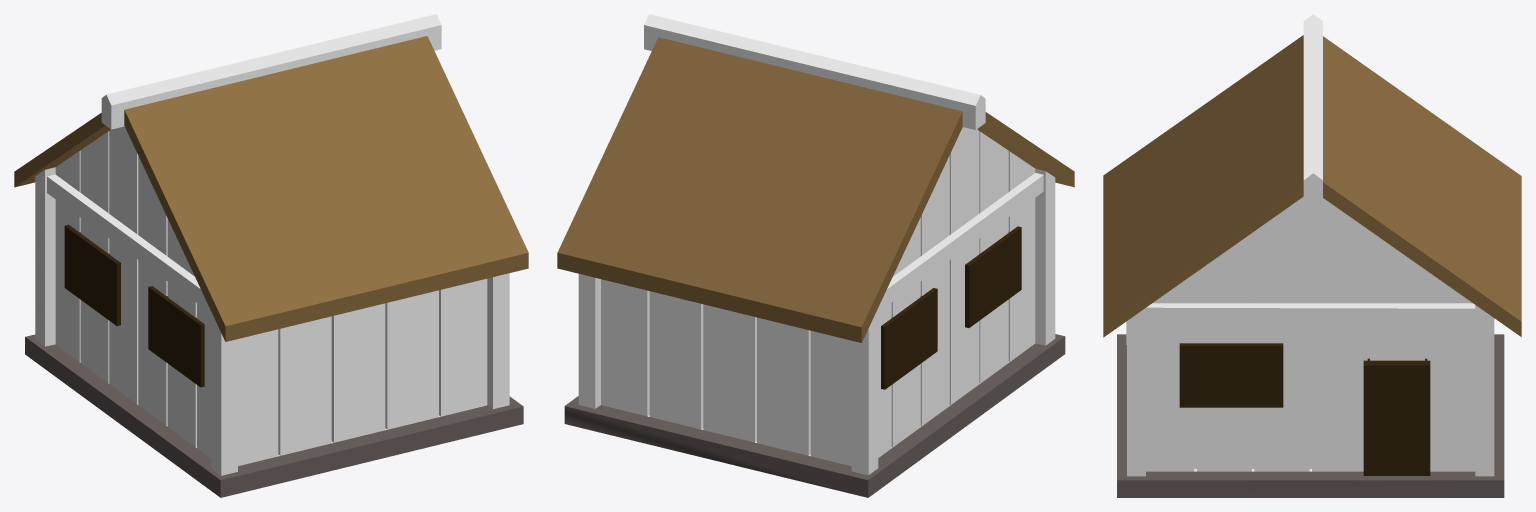
File: PrairieHouse(2).fbx
The picture shows the model from 3 angles, left to right: view 1: azimuth 30°, elevation 25°; view 2: azimuth 150°, elevation 25°; view 3: azimuth 270°, elevation 25°; orthographic projection.
Parts seen in each view (by area): view 1: PrairieHouse(2); view 2: PrairieHouse(2); view 3: PrairieHouse(2).
Boxes of the visible parts, x1,y1,x2,y2 form: PrairieHouse(2): (14, 14, 528, 497); PrairieHouse(2): (557, 14, 1074, 497); PrairieHouse(2): (1103, 14, 1521, 497).
Size of the model in its own units: 5.33 by 5.16 by 5.92.
